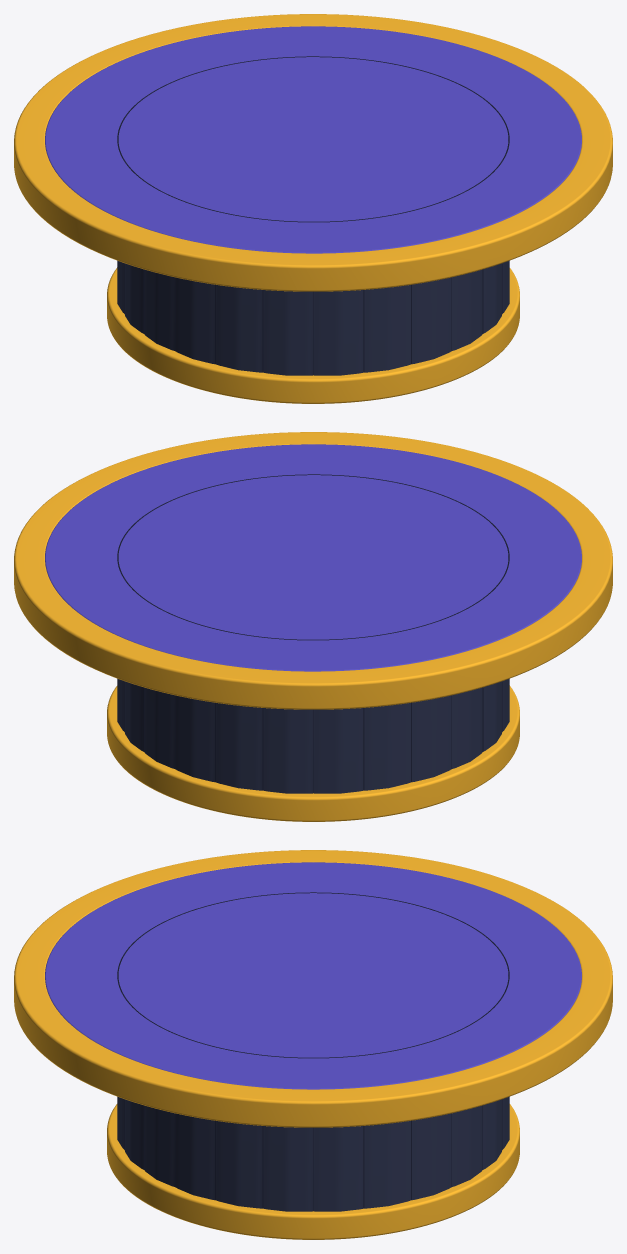
File: Table.glb
The picture shows the model from 3 angles, top to bottom: view 1: azimuth 30°, elevation 25°; view 2: azimuth 150°, elevation 25°; view 3: azimuth 270°, elevation 25°; orthographic projection.
Parts seen in each view (by area): view 1: VioletTabletop, GoldTabletopRim, PaneledPedestal, CentralVioletInset, GoldFootRing, ConcentricSeam; view 2: VioletTabletop, GoldTabletopRim, PaneledPedestal, CentralVioletInset, GoldFootRing, ConcentricSeam; view 3: VioletTabletop, GoldTabletopRim, PaneledPedestal, CentralVioletInset, GoldFootRing, ConcentricSeam.
Boxes of the visible parts, x1,y1,x2,y2 form: VioletTabletop: [45, 26, 581, 253]; GoldTabletopRim: [14, 14, 612, 291]; PaneledPedestal: [117, 260, 509, 375]; CentralVioletInset: [119, 57, 507, 221]; GoldFootRing: [107, 267, 519, 403]; ConcentricSeam: [117, 56, 509, 222]; VioletTabletop: [45, 444, 581, 671]; GoldTabletopRim: [14, 432, 612, 709]; PaneledPedestal: [117, 678, 509, 793]; CentralVioletInset: [119, 475, 507, 639]; GoldFootRing: [107, 685, 519, 821]; ConcentricSeam: [117, 474, 509, 640]; VioletTabletop: [45, 862, 581, 1089]; GoldTabletopRim: [14, 850, 612, 1127]; PaneledPedestal: [117, 1096, 509, 1211]; CentralVioletInset: [119, 894, 506, 1057]; GoldFootRing: [107, 1104, 519, 1239]; ConcentricSeam: [117, 892, 509, 1058].
Bounding box in the file's own units: 2.9 × 0.952 × 2.9.
Materials: 4 (4 with a texture image).
